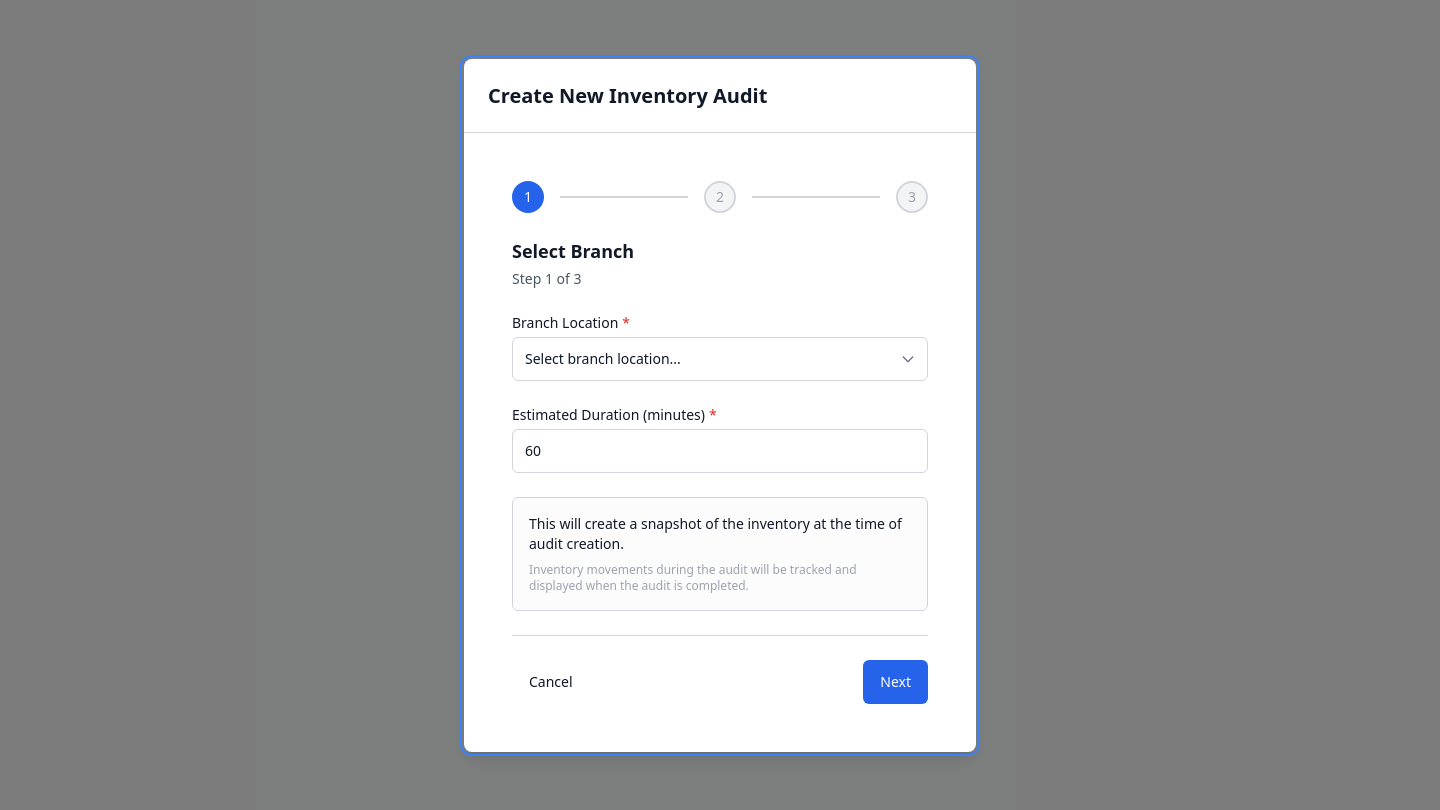
Count Components › NewCountWizard › should validate branch selection before proceeding
The width and height of the screenshot is (1440, 810).
// Try to proceed without selecting branch
Step 1. Click the button "Next" → (896, 682), box 863,660 -> 928,704
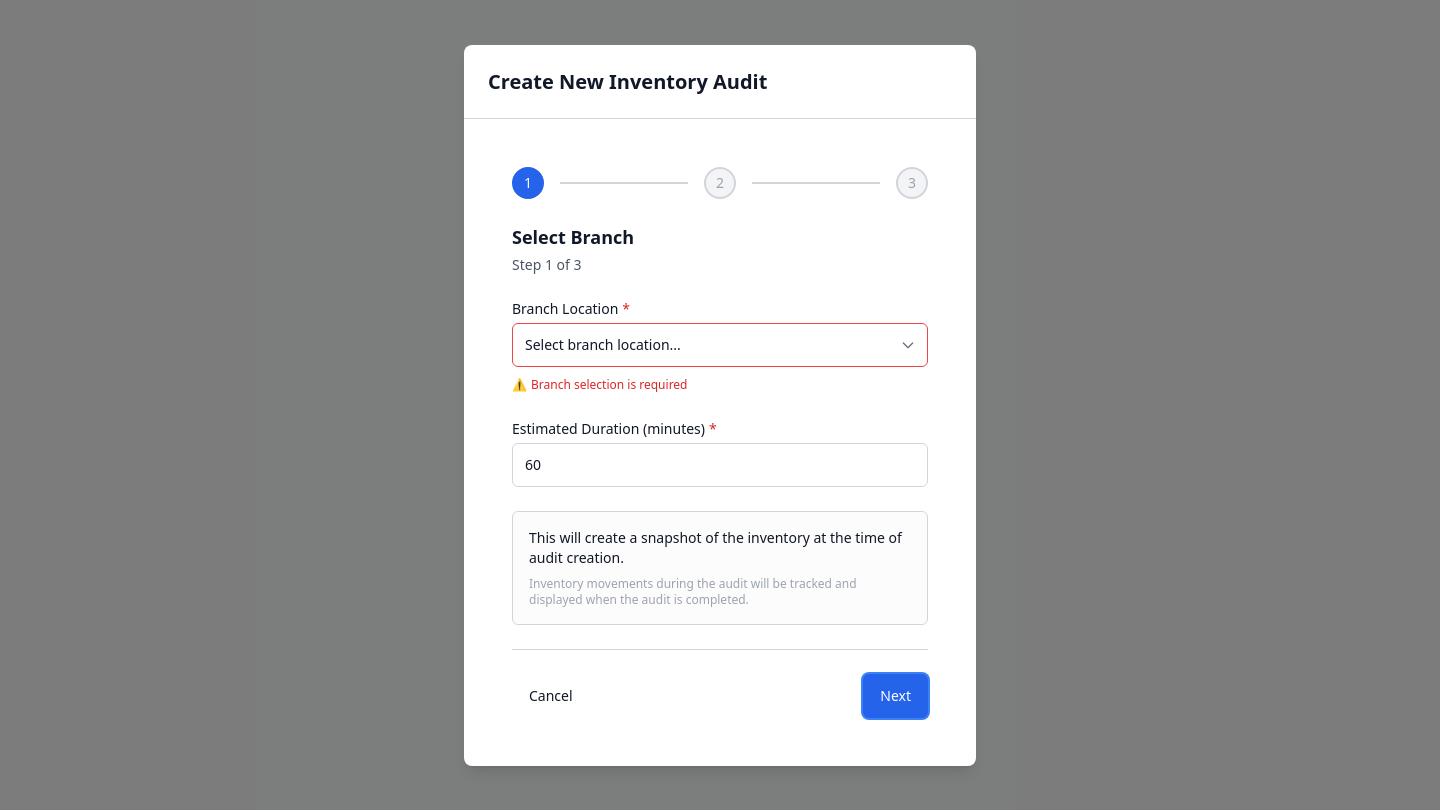
Expected: the text "Branch selection is required" is shown, 531,376 -> 688,392
